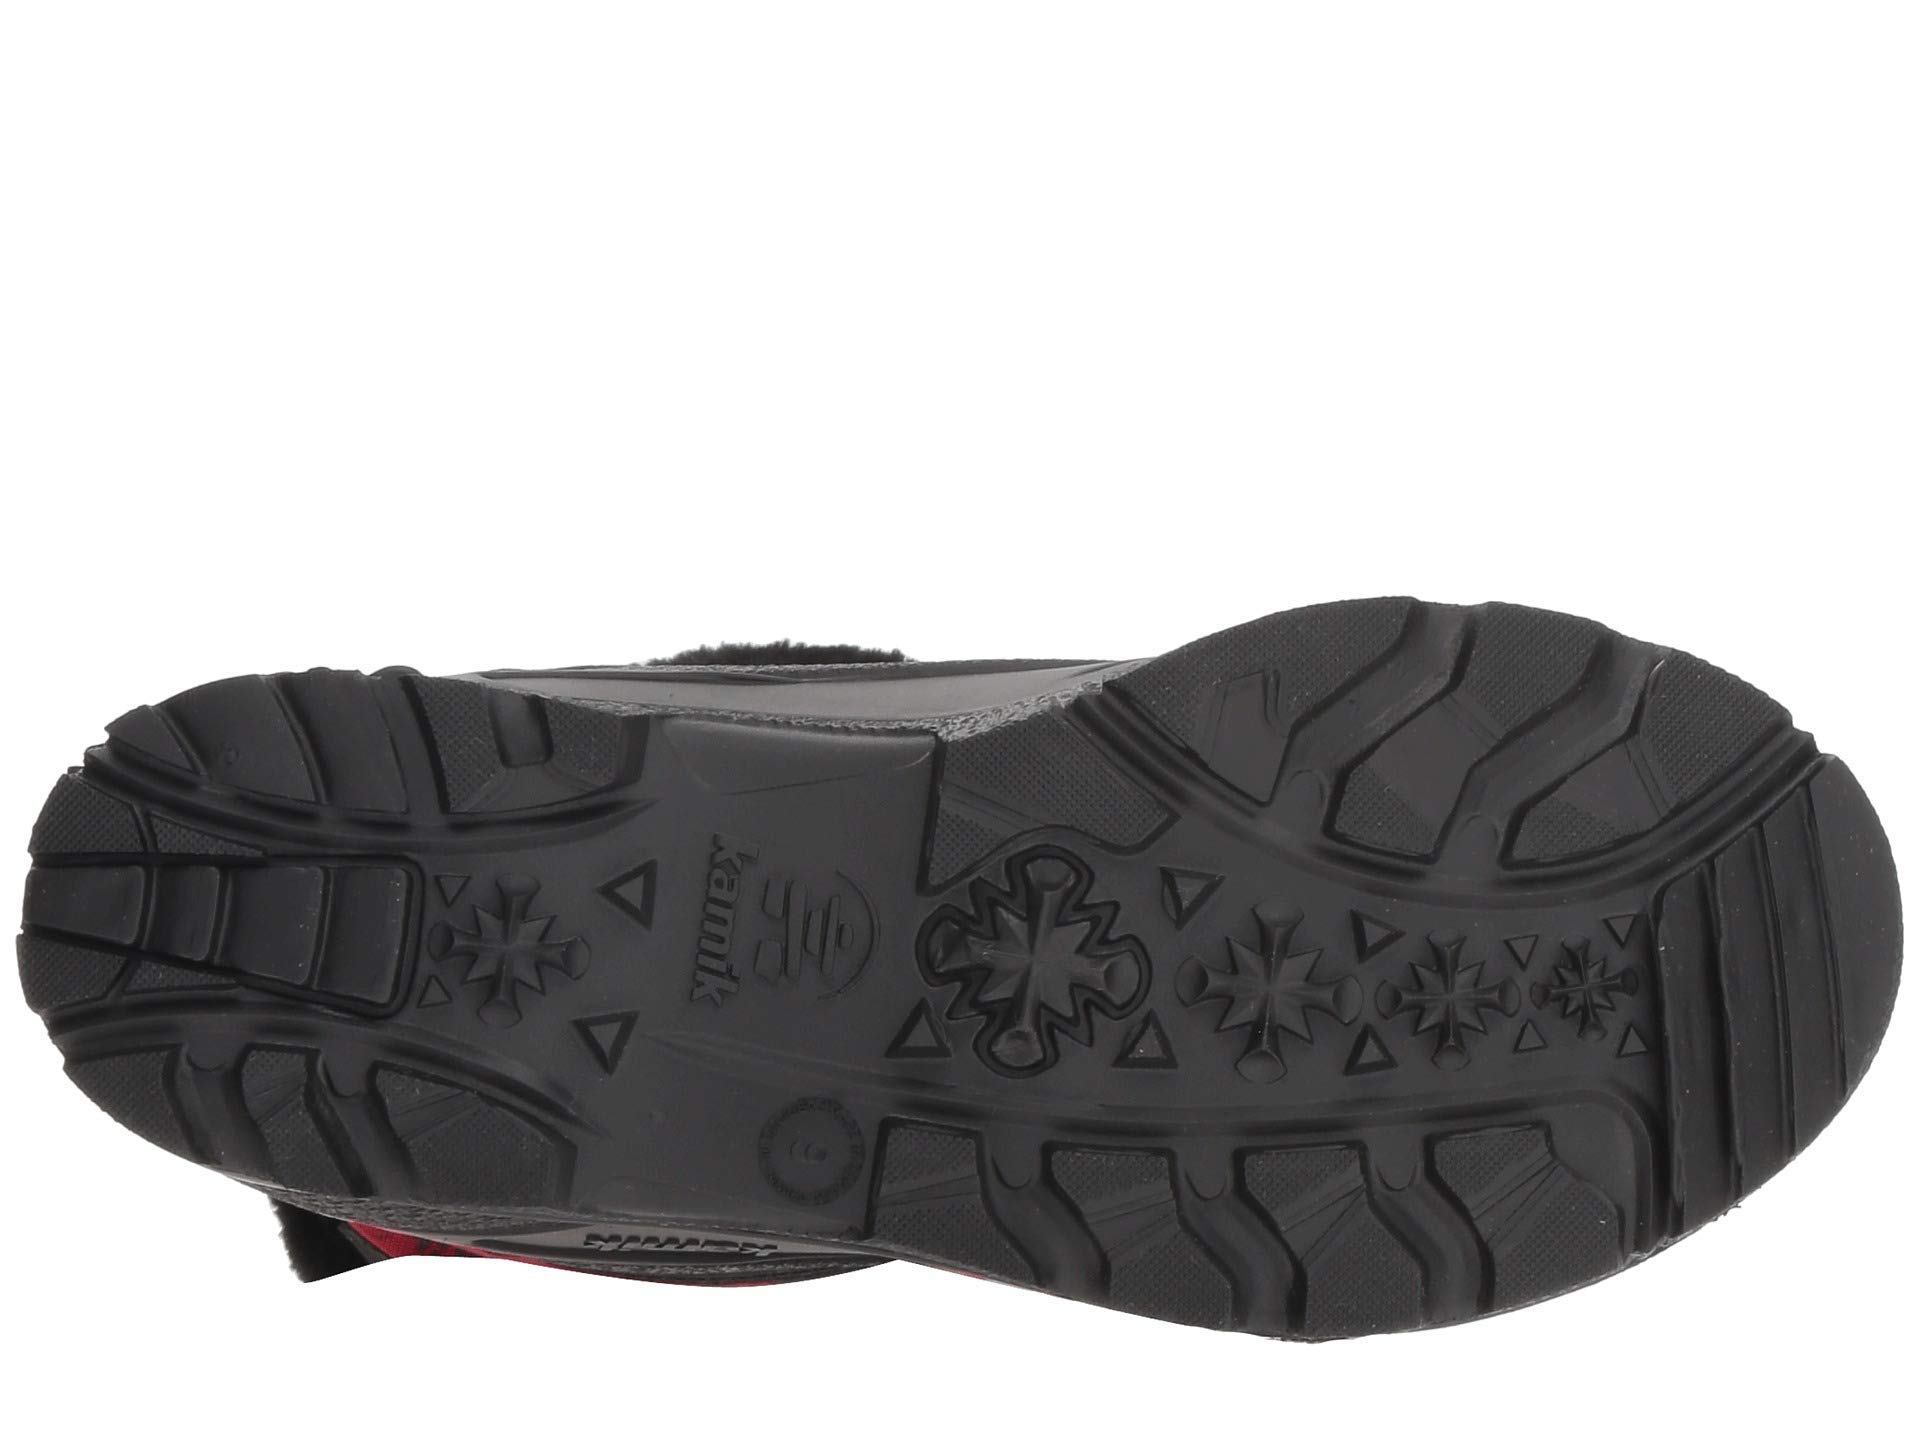circle: (705, 1045, 886, 1225)
line: (1692, 895, 1869, 1054)
quad: (97, 628, 343, 867), (9, 839, 262, 1063), (692, 817, 893, 1032)
star: (889, 774, 1217, 1104), (1332, 868, 1569, 1103), (423, 859, 596, 1041)
text: (692, 817, 893, 1032), (705, 1045, 886, 1225)
triangle: (889, 774, 1217, 1104), (97, 628, 343, 867), (9, 839, 262, 1063), (1332, 868, 1569, 1103), (423, 859, 596, 1041), (562, 833, 683, 945), (1590, 895, 1655, 970)
